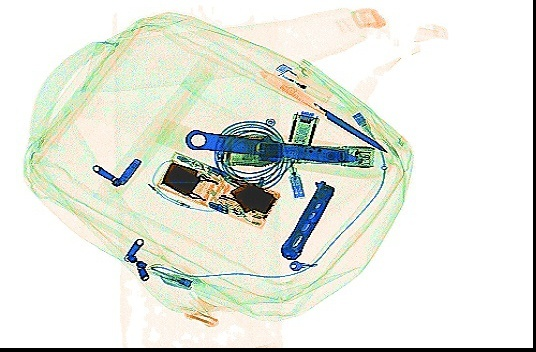knife: (258, 67, 387, 153), (182, 125, 363, 165), (278, 176, 334, 261)
lighter: (273, 62, 331, 103)
